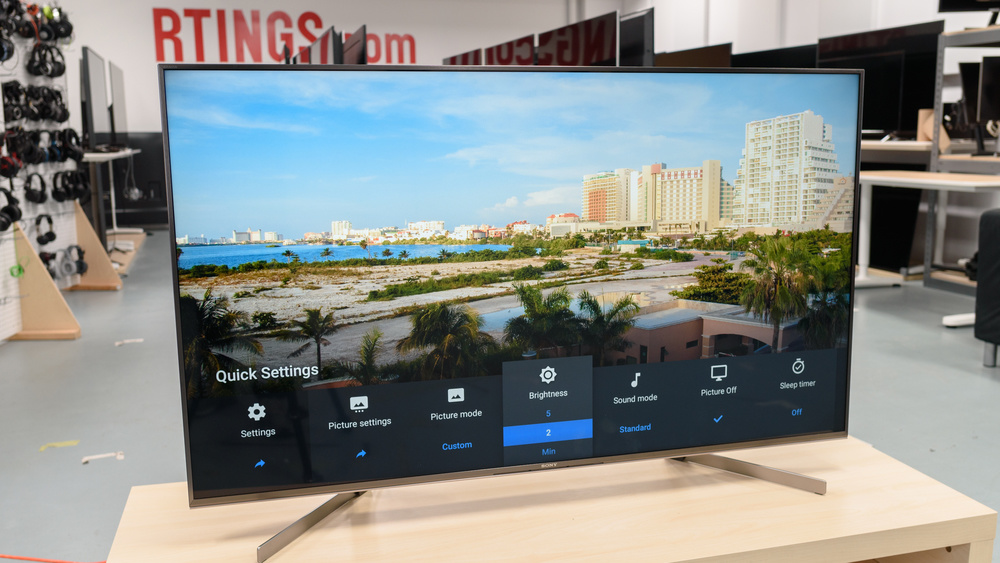tv: (149, 54, 871, 558)
